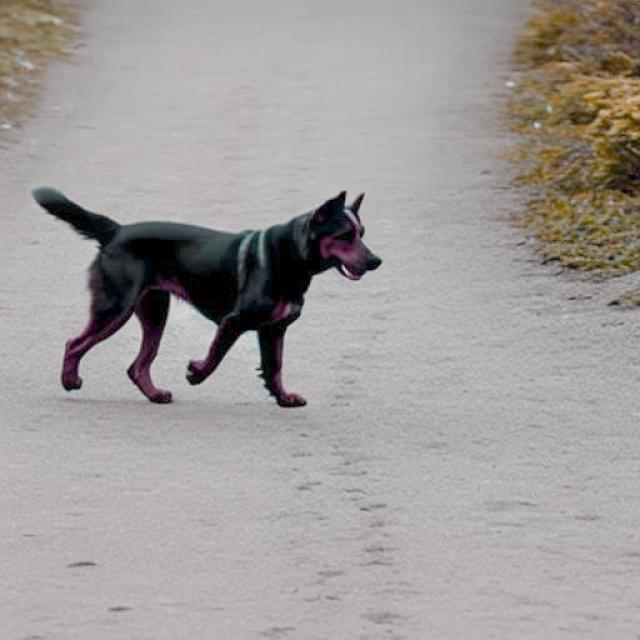Dog: (33, 187, 383, 407)
